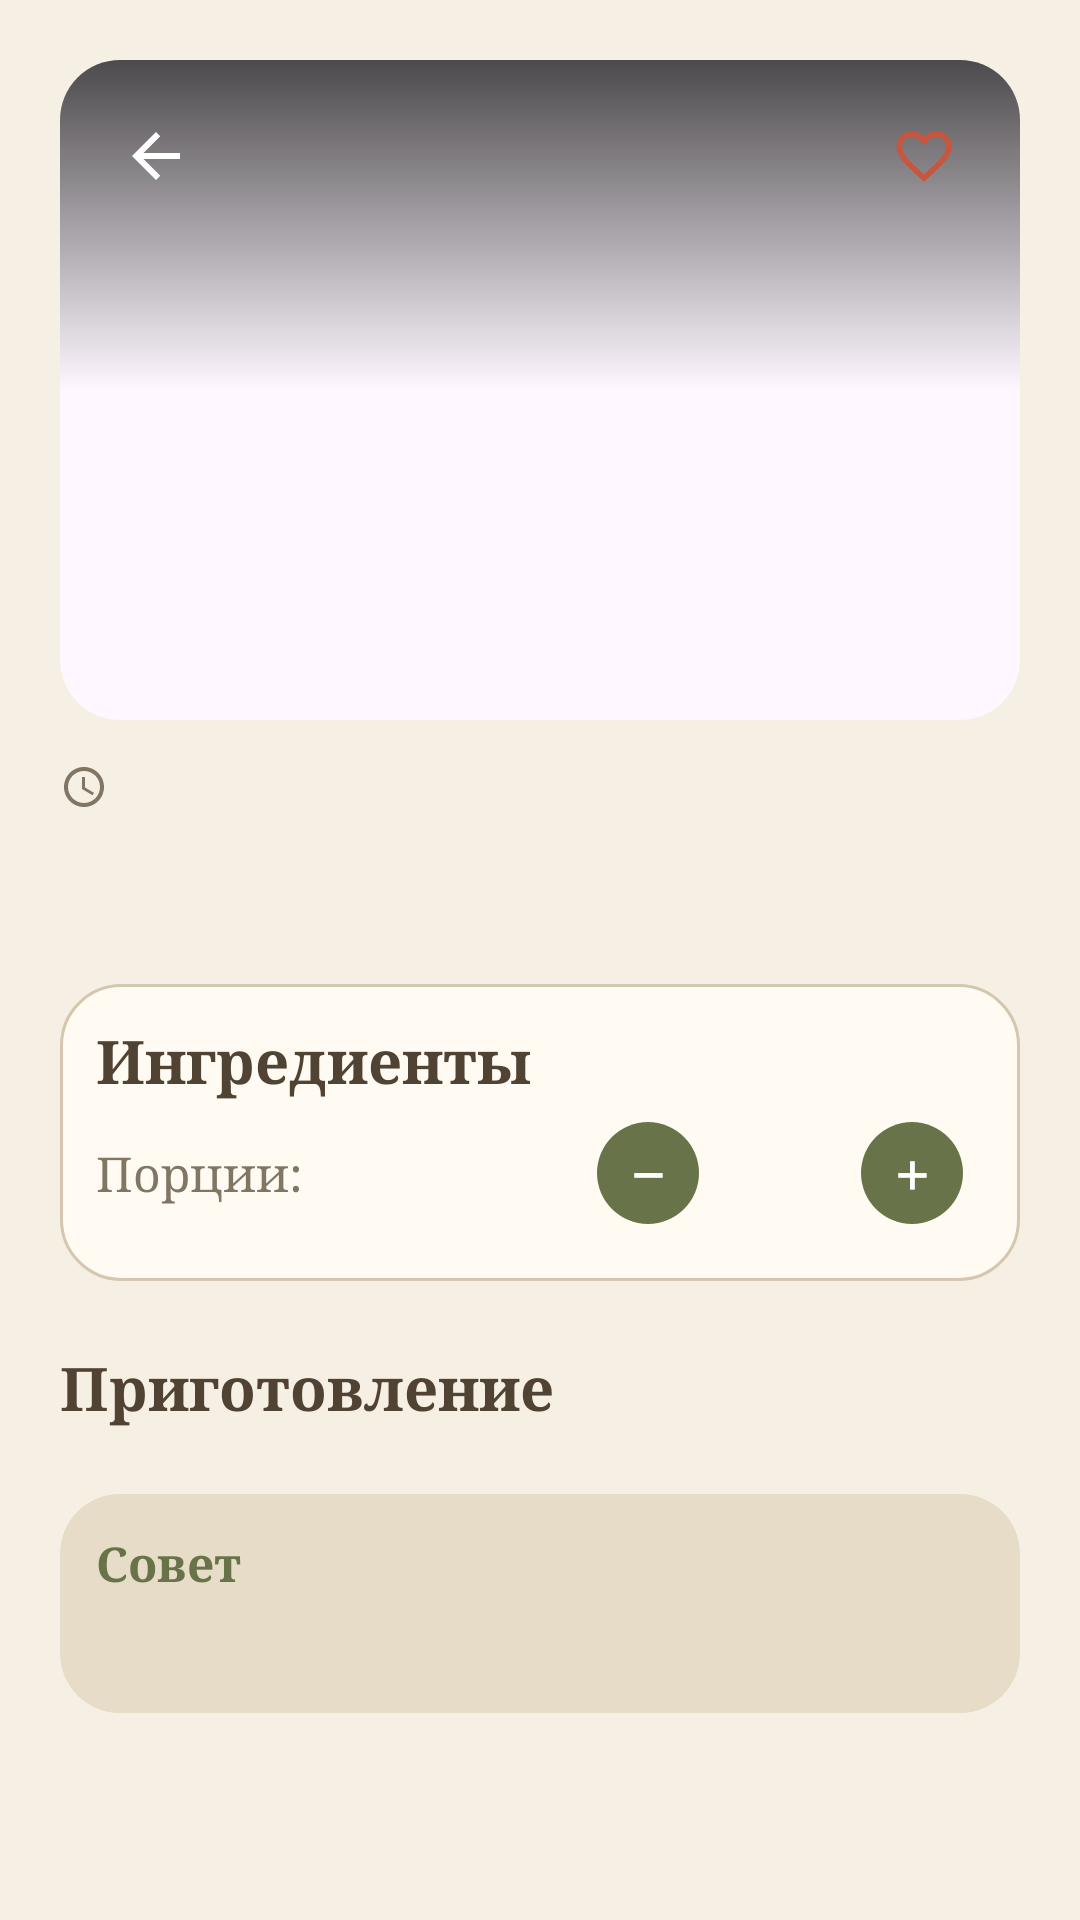

Where icons sit on this 1080x1920 app screen, as bbox(x1, y1, x2, y2):
clock: bbox(64, 767, 104, 807)
